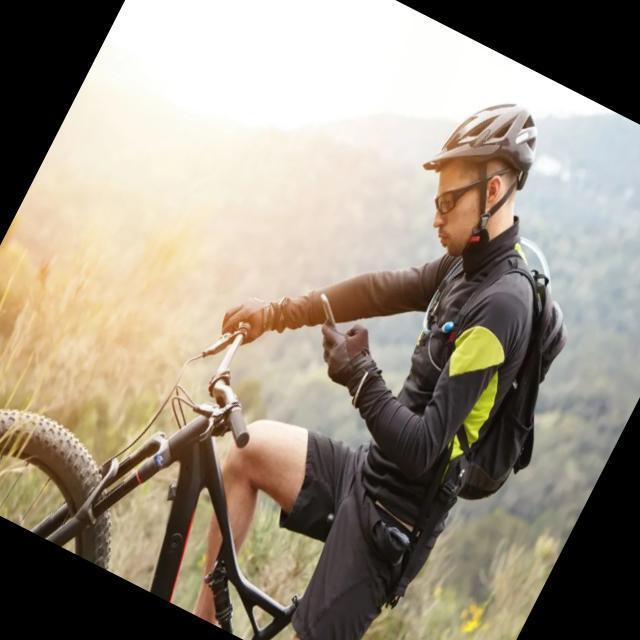use_mobile: (315, 290, 383, 406)
with_helmet: (425, 101, 540, 257)
